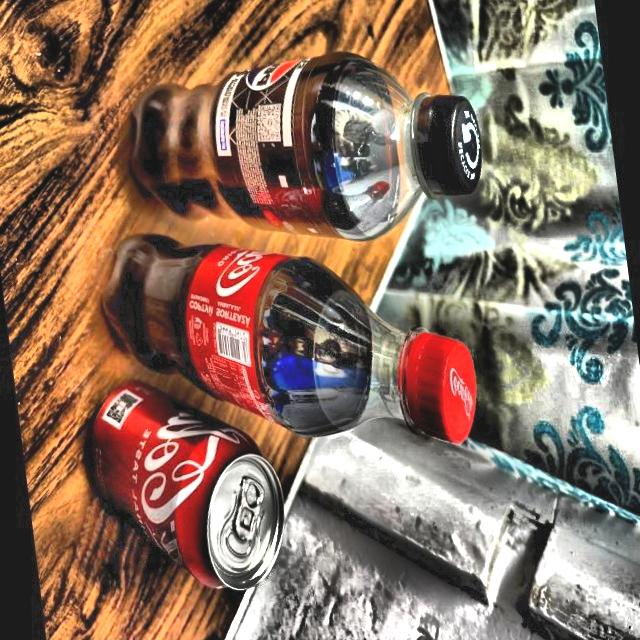coke-bottle: (109, 238, 471, 444)
coke-can: (76, 382, 284, 588)
pepsi-bottle: (132, 54, 480, 232)
